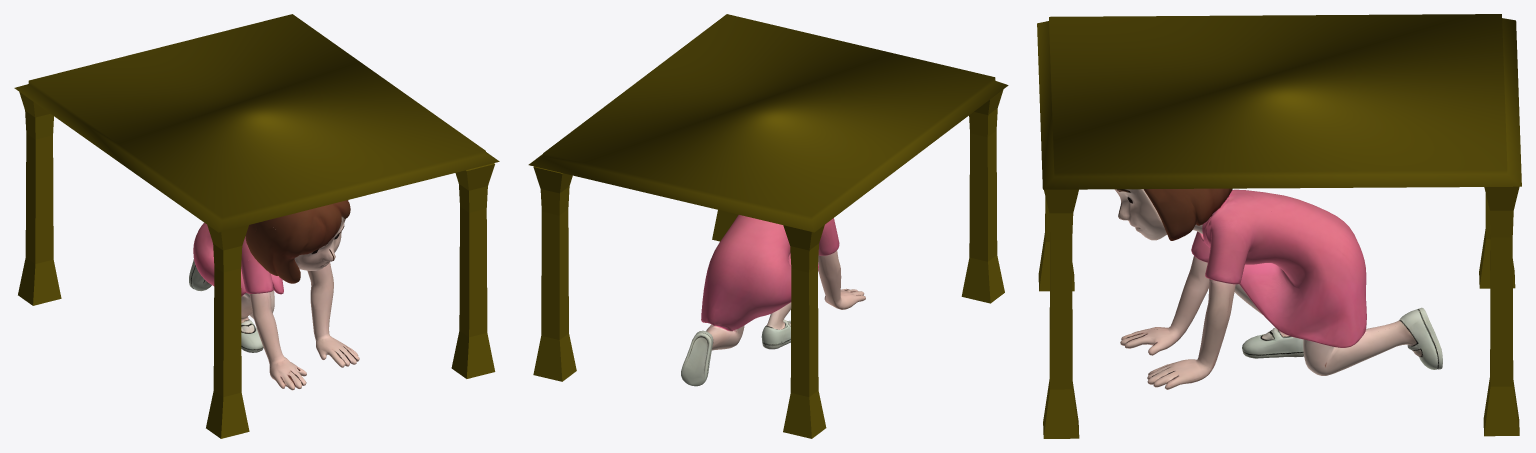
File: Niña_Mesa.glb
The picture shows the model from 3 angles, left to right: view 1: azimuth 30°, elevation 25°; view 2: azimuth 150°, elevation 25°; view 3: azimuth 270°, elevation 25°; orthographic projection. The views are drawn at different scales.
Parts seen in each view (by area): view 1: Mesa, Nina; view 2: Mesa, Nina; view 3: Mesa, Nina.
Part boxes in pixels (bbox=[...]): Mesa: bbox=[14, 14, 499, 438]; Nina: bbox=[189, 200, 359, 390]; Mesa: bbox=[528, 14, 1008, 438]; Nina: bbox=[681, 215, 865, 386]; Mesa: bbox=[1037, 14, 1521, 438]; Nina: bbox=[1114, 188, 1442, 389].
Size of the model in its own units: 2.18 by 1.61 by 2.63.
2 materials, 1 textured.
